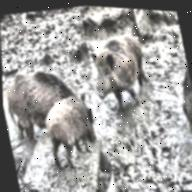boar: (83, 16, 160, 111), (28, 87, 109, 173), (2, 56, 74, 140)
